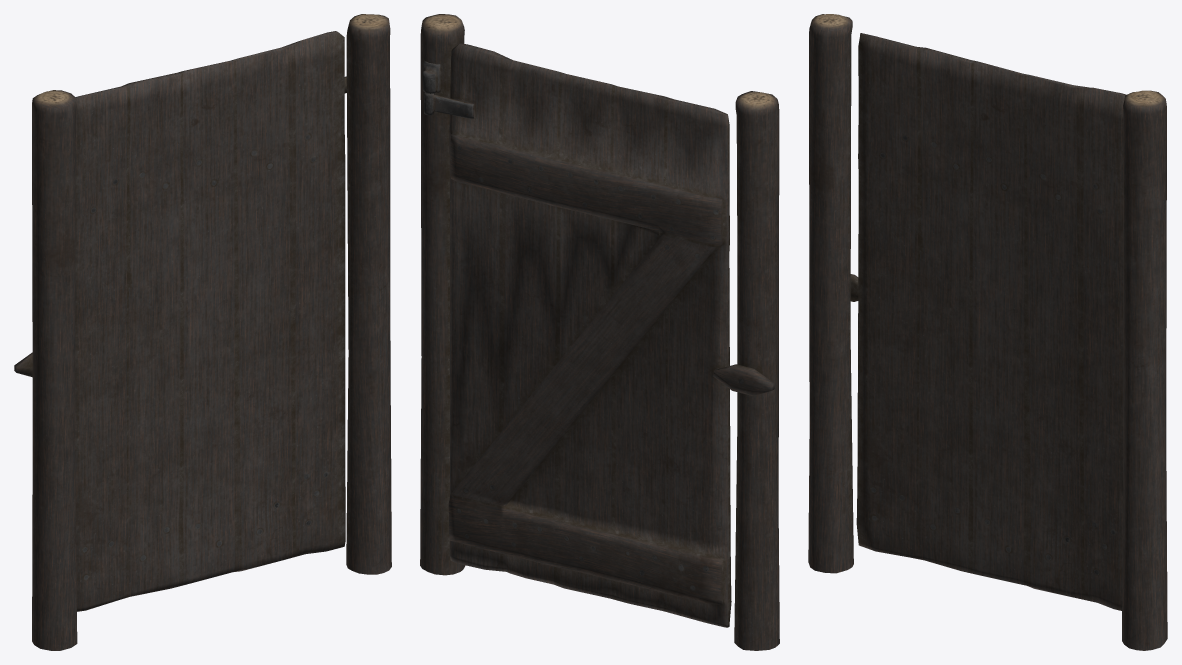
The model's file is woodenDoor.fbx.
3 views of the same model, side by side, from view 1: azimuth 30°, elevation 25°; view 2: azimuth 150°, elevation 25°; view 3: azimuth 330°, elevation 25° (orthographic).
Parts seen in each view (by area): view 1: vorota; view 2: vorota; view 3: vorota.
Part boxes in pixels (bbox=[...]): vorota: bbox=[14, 14, 391, 650]; vorota: bbox=[420, 14, 779, 650]; vorota: bbox=[808, 14, 1167, 650].
Size of the model in its own units: 74.23 by 107 by 10.
1 material, 1 textured.
